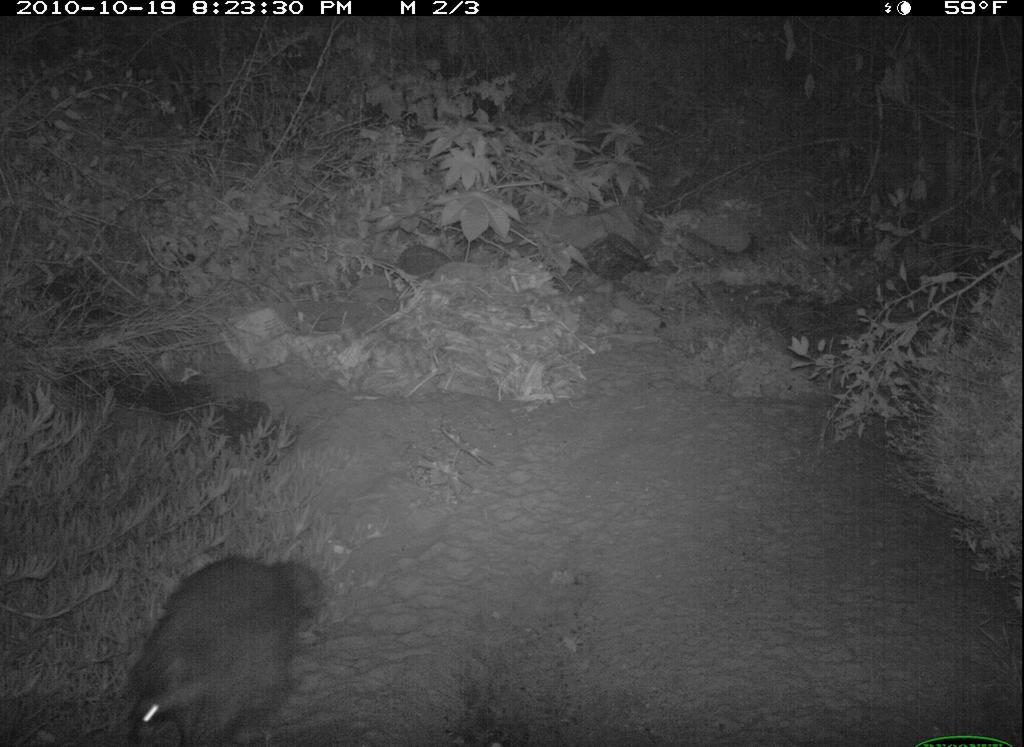raccoon: (116, 550, 335, 747)
